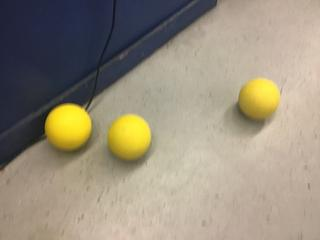power_cell: (43, 98, 93, 151), (107, 116, 152, 159), (241, 81, 281, 119)
